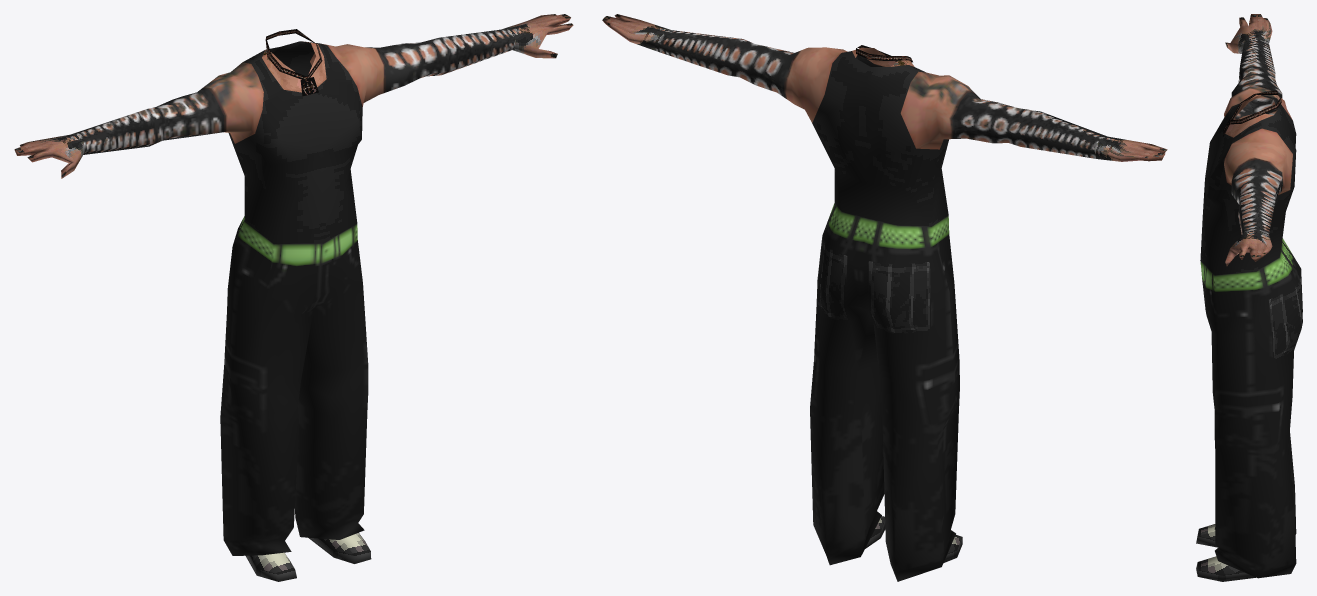
Rendered from Jeff_B.obj.
3 renders of one model, left to right at view 1: azimuth 30°, elevation 25°; view 2: azimuth 150°, elevation 25°; view 3: azimuth 270°, elevation 25°, orthographic. The views are drawn at different scales.
Parts seen in each view (by area): view 1: Jeff_B.001; view 2: Jeff_B.001; view 3: Jeff_B.001.
Part boxes in pixels (left/top/right/bottom): Jeff_B.001: left=14, top=14, right=573, bottom=581; Jeff_B.001: left=602, top=14, right=1167, bottom=581; Jeff_B.001: left=1196, top=14, right=1302, bottom=581.
Bounding box in the file's own units: 19.47 × 17.17 × 3.6.
11 materials, 11 textured.
